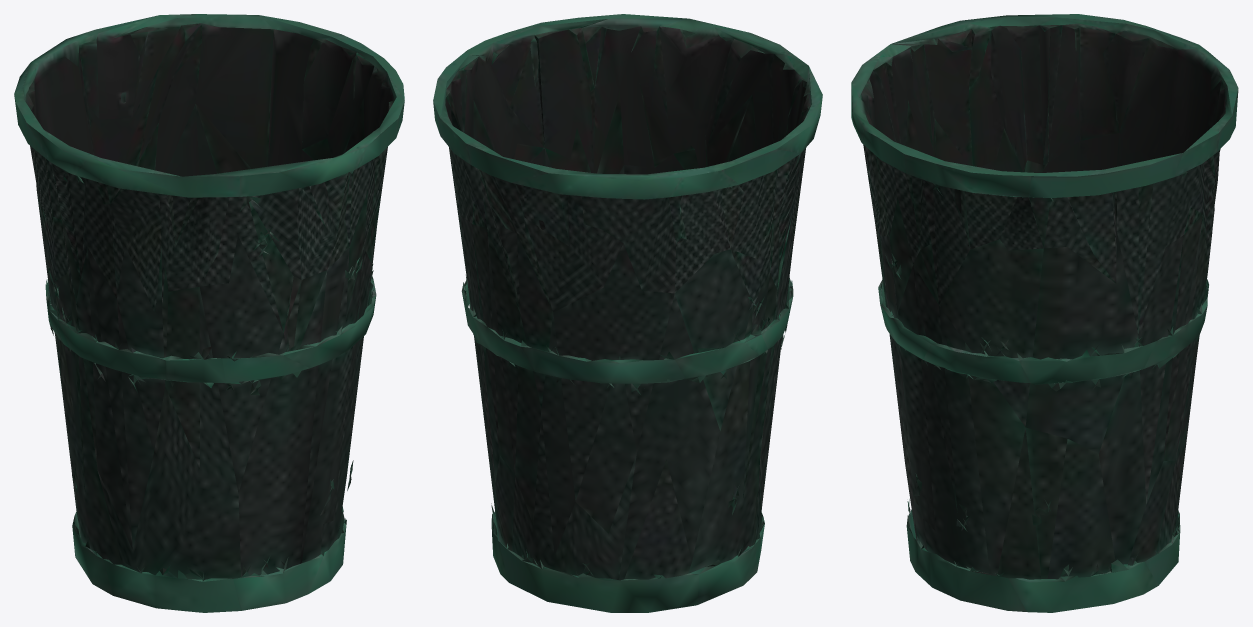
Rendered from trashcan.glb.
3 views of the same model, side by side, from view 1: azimuth 30°, elevation 25°; view 2: azimuth 150°, elevation 25°; view 3: azimuth 270°, elevation 25° (orthographic).
Visible parts, largest first — view 1: trashcan; view 2: trashcan; view 3: trashcan.
Part boxes in pixels (x1,y1,x2,y2): trashcan: (14,14,404,612); trashcan: (433,14,822,612); trashcan: (851,14,1238,612).
Size of the model in its own units: 0.68 by 0.9 by 0.6827.
1 material, 1 textured.
